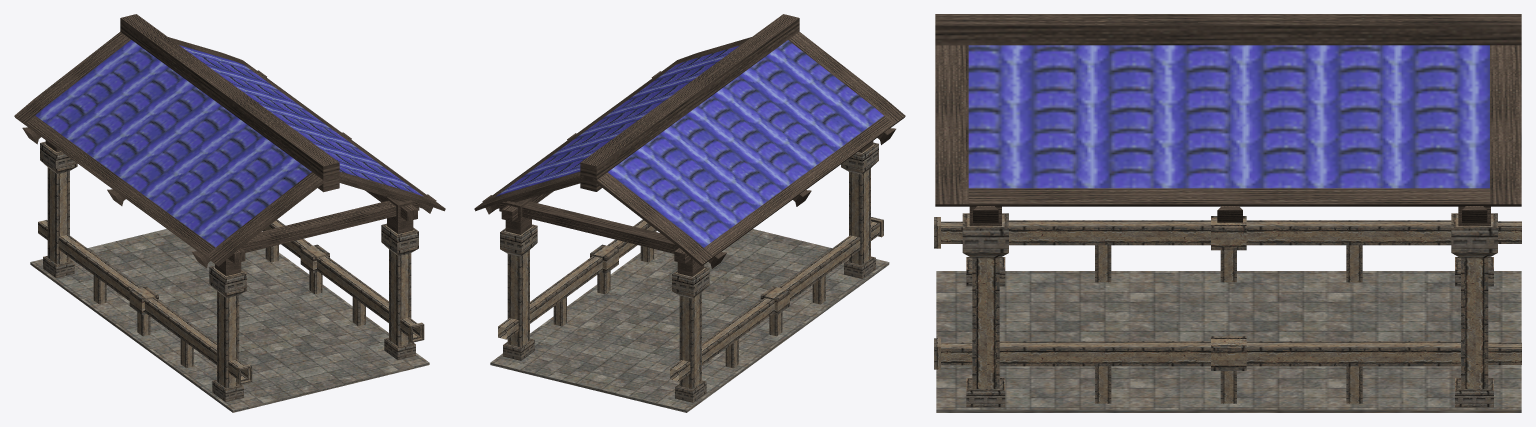
File: corredorjpB.fbx
The picture shows the model from 3 angles, left to right: view 1: azimuth 30°, elevation 25°; view 2: azimuth 150°, elevation 25°; view 3: azimuth 270°, elevation 25°; orthographic projection. The views are drawn at different scales.
Parts seen in each view (by area): view 1: Cube; view 2: Cube; view 3: Cube.
Boxes of the visible parts, left/top/right/bottom form: Cube: left=14, top=14, right=445, bottom=412; Cube: left=474, top=14, right=905, bottom=412; Cube: left=934, top=14, right=1521, bottom=412.
Size of the model in its own units: 3.36 by 3.05 by 5.02.
